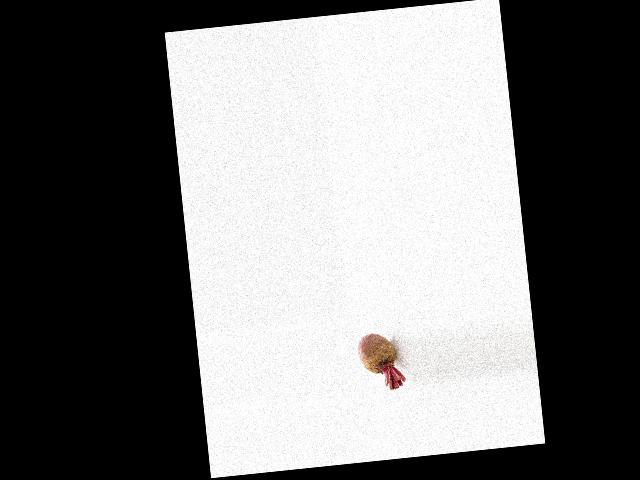beet: (356, 330, 407, 392)
